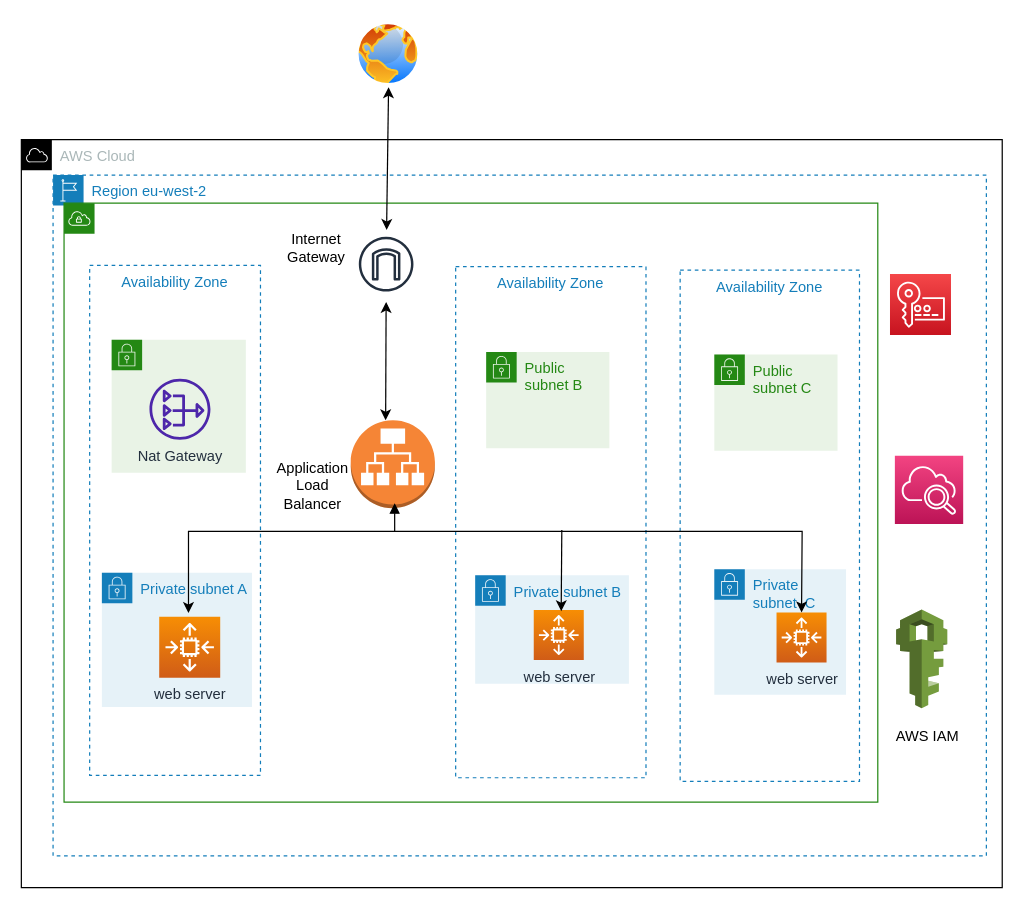
Some shapes in this 1024 by 909 pixel diagram are drawn without their labels. Each missing label, with the box of its shape:
AWS CloudWatch: (894, 454, 963, 524)
AWS KMS: (889, 273, 951, 335)
Public subnet A: (110, 339, 246, 473)
VPC: (63, 202, 878, 802)
